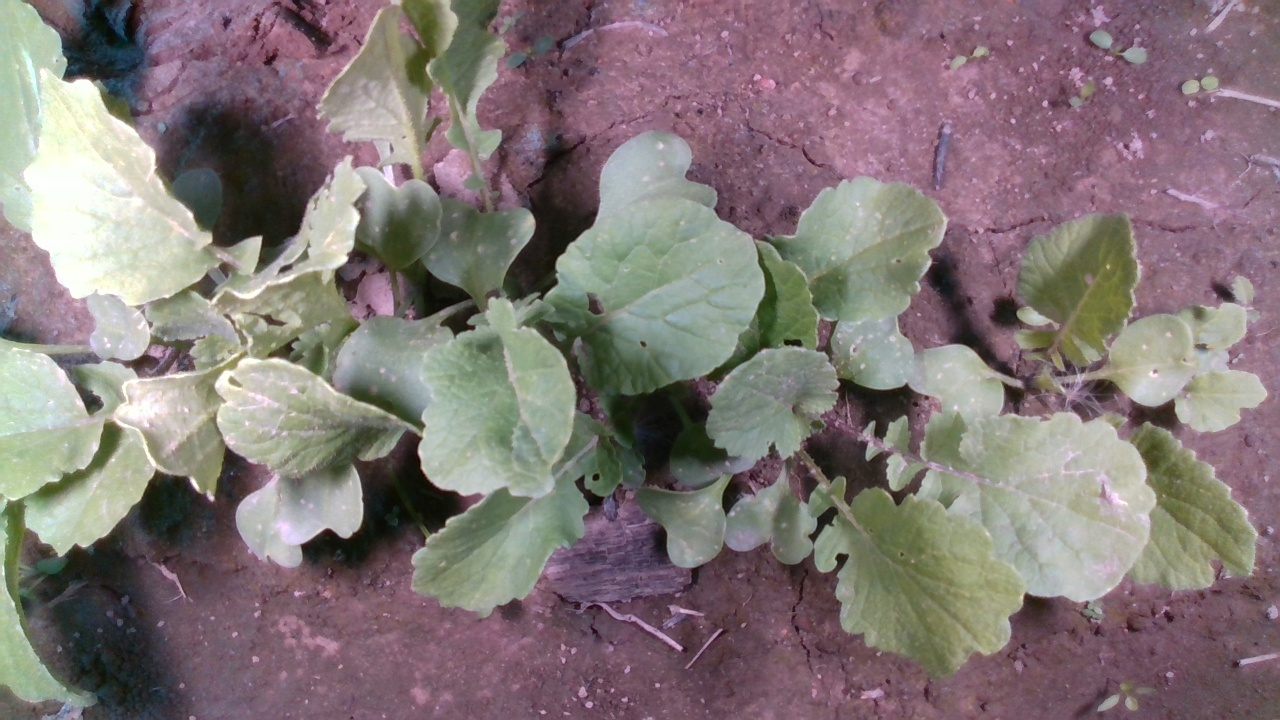weed: (1089, 29, 1150, 63), (1095, 680, 1158, 712), (947, 44, 990, 71), (1067, 76, 1098, 111), (1180, 75, 1221, 95)
